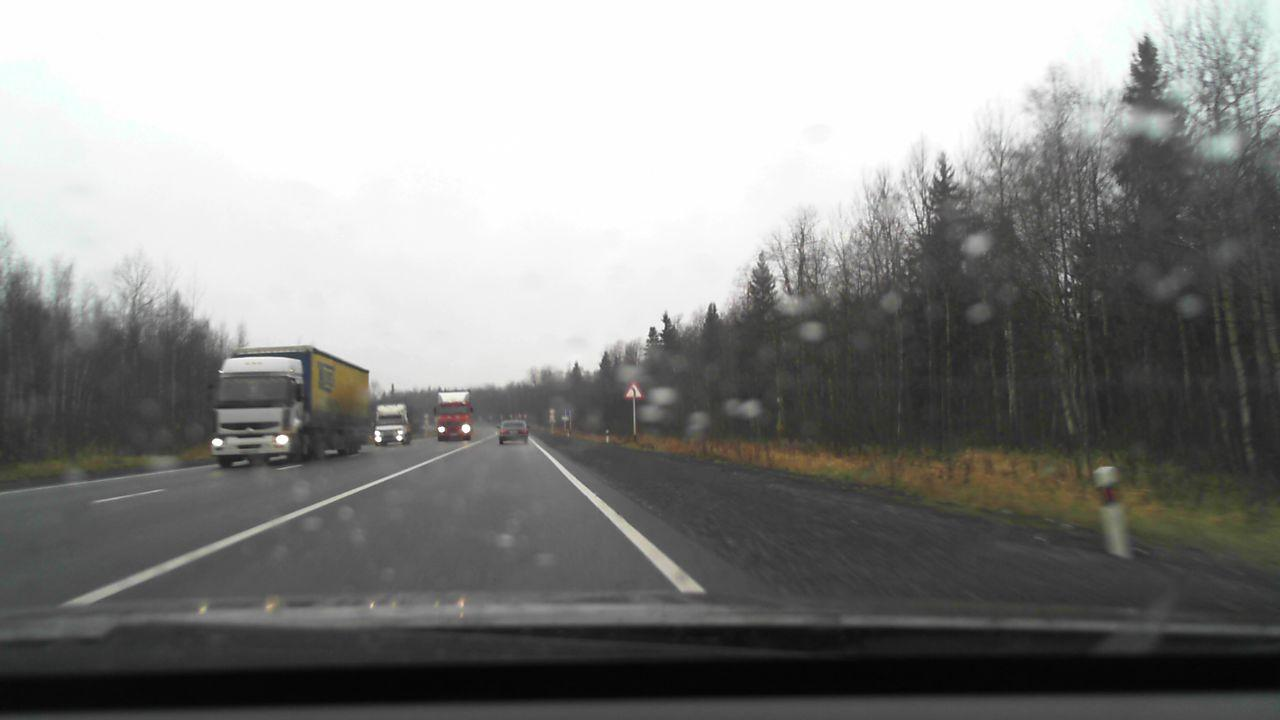1_11_2: (622, 379, 645, 399)
